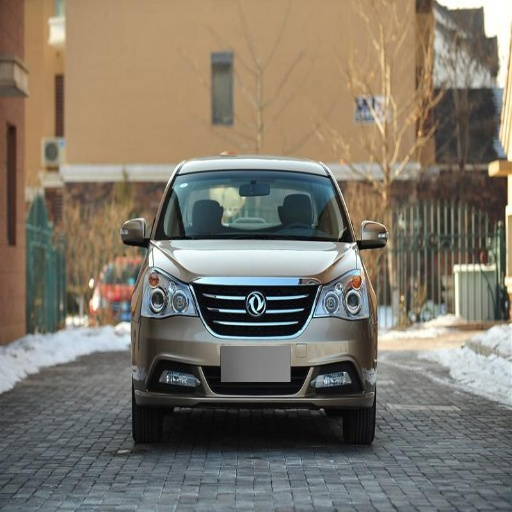front_bumper: (133, 276, 374, 410)
front_right_light: (144, 264, 194, 316)
hood: (153, 240, 358, 283)
